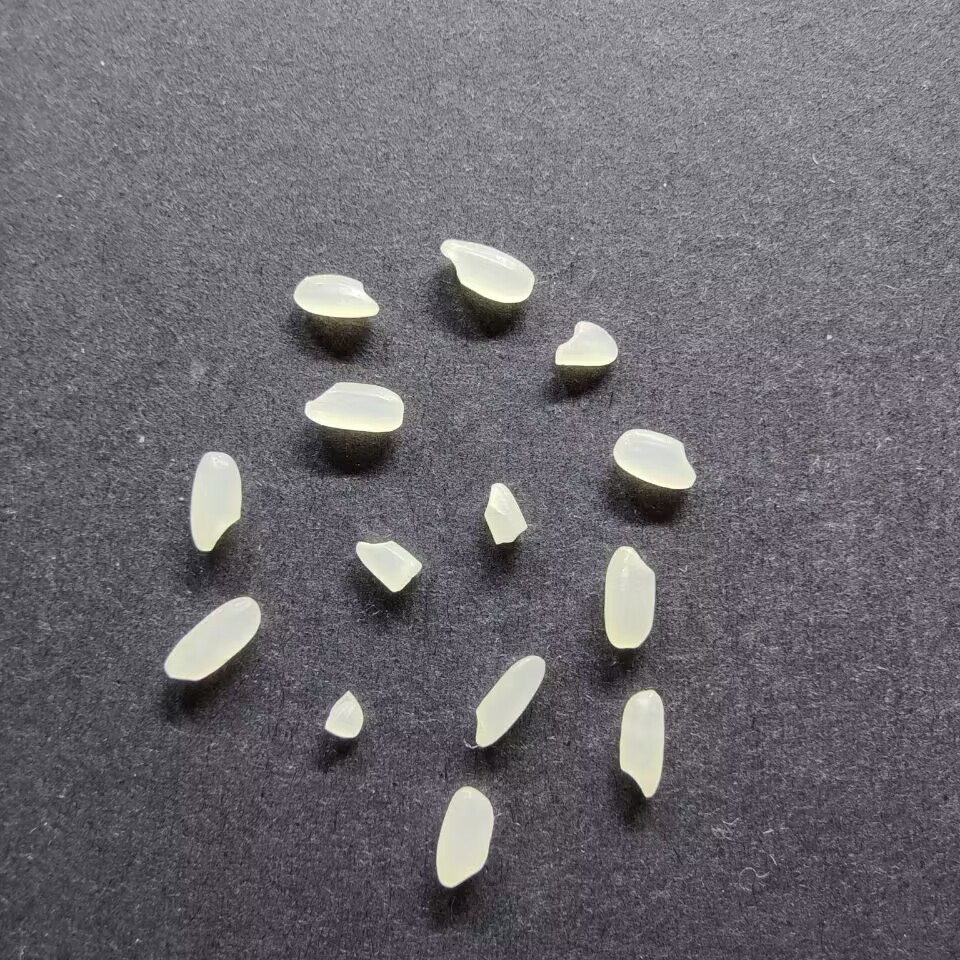broken: (354, 540, 423, 593), (553, 319, 619, 367), (482, 481, 527, 546), (323, 691, 364, 739)
rice: (163, 596, 260, 681), (473, 654, 546, 747), (439, 238, 534, 303), (435, 786, 493, 888), (188, 451, 242, 553), (602, 545, 655, 648), (303, 381, 404, 433), (612, 428, 695, 489), (618, 689, 664, 797), (293, 273, 379, 318)
